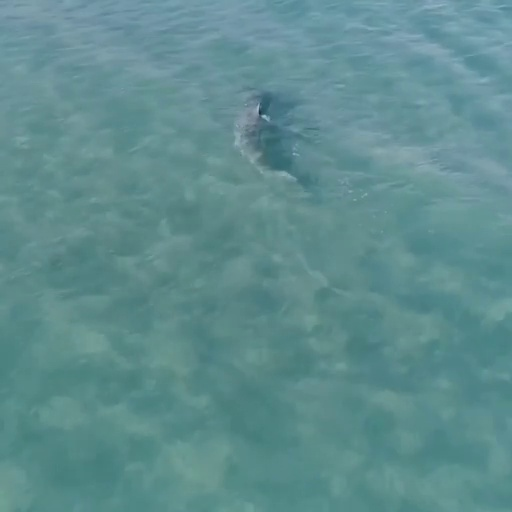shark: (212, 82, 310, 190)
